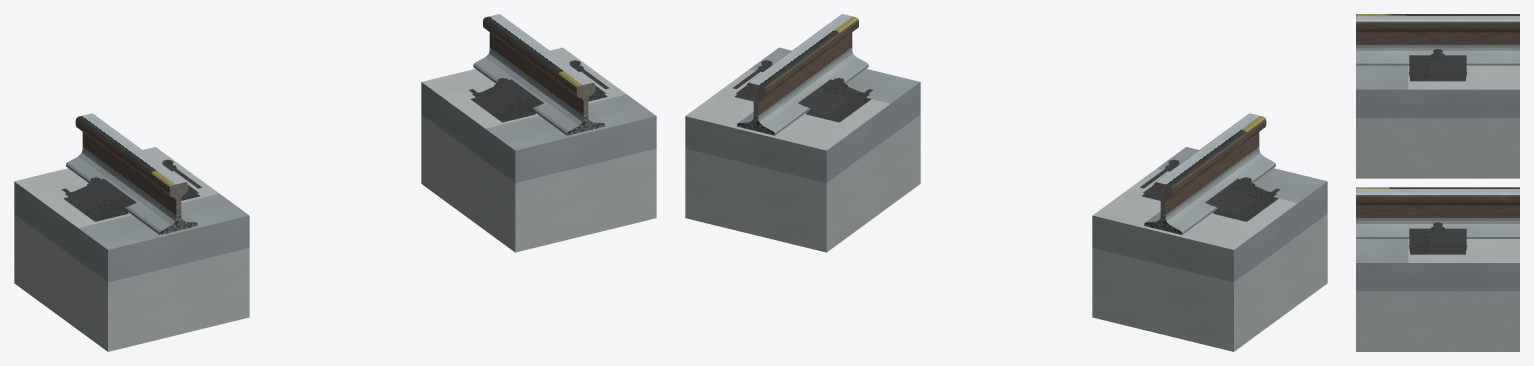
File: direct_mid.obj
3 renders of one model, left to right at view 1: azimuth 30°, elevation 25°; view 2: azimuth 150°, elevation 25°; view 3: azimuth 270°, elevation 25°, orthographic. The views are drawn at different scales.
Visible parts, largest first — view 1: direct_bearer, rail_left, rail_right, fastener_left, fastener_right, rail_left_end, rail_right_end; view 2: direct_bearer, rail_left, rail_right, fastener_left, fastener_right, rail_left_end, rail_right_end; view 3: direct_bearer, rail_right, rail_left, fastener_left, fastener_right.
Part boxes in pixels (<box>): direct_bearer: <box>14,47,656,351</box>; rail_left: <box>66,113,195,234</box>; rail_right: <box>473,14,602,135</box>; fastener_left: <box>61,159,201,221</box>; fastener_right: <box>469,60,608,122</box>; rail_left_end: <box>160,182,197,234</box>; rail_right_end: <box>567,83,604,135</box>; direct_bearer: <box>685,47,1327,351</box>; rail_left: <box>1146,113,1275,234</box>; rail_right: <box>739,14,868,135</box>; fastener_left: <box>1140,159,1280,221</box>; fastener_right: <box>733,60,872,122</box>; rail_left_end: <box>1144,182,1181,234</box>; rail_right_end: <box>737,83,774,135</box>; direct_bearer: <box>1356,65,1519,351</box>; rail_right: <box>1356,187,1519,238</box>; rail_left: <box>1356,14,1519,65</box>; fastener_left: <box>1408,49,1467,81</box>; fastener_right: <box>1408,222,1467,254</box>.
Bounding box in the file's own units: 2.03 × 0.5324 × 0.6.
